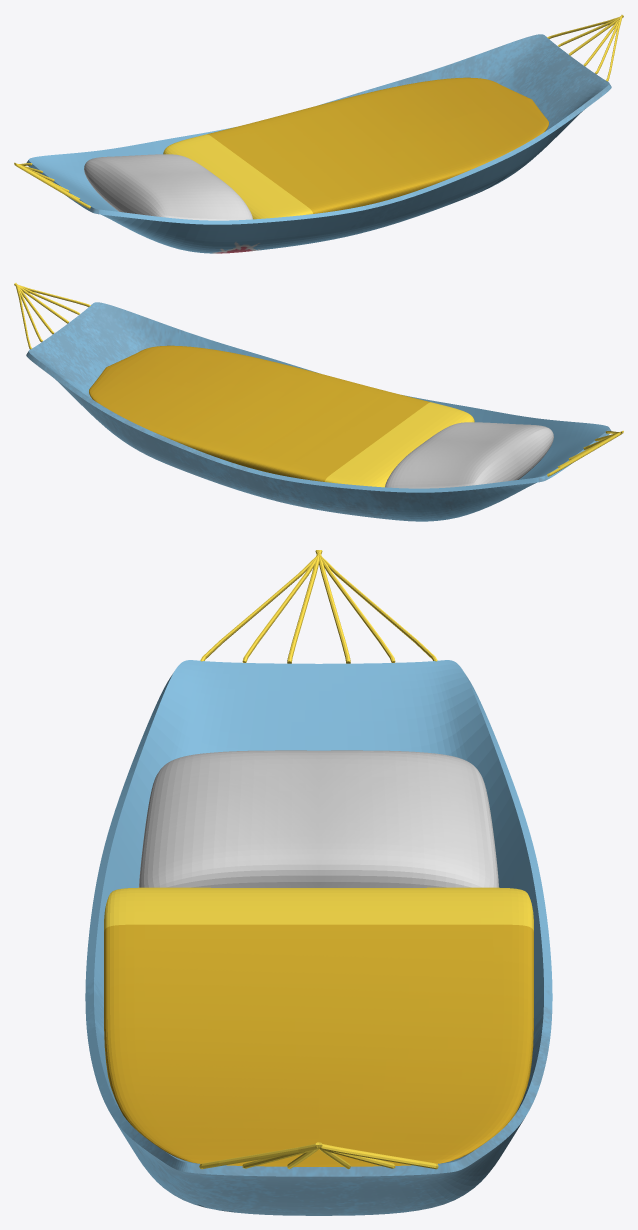
File: hammak01.fbx
3 renders of one model, top to bottom at view 1: azimuth 30°, elevation 25°; view 2: azimuth 150°, elevation 25°; view 3: azimuth 270°, elevation 25°, orthographic. The views are drawn at different scales.
Visible parts, largest first — view 1: Cube.002, Hammak, Cube.001, Plane.002; view 2: Cube.002, Hammak, Cube.001, Plane.002; view 3: Cube.002, Hammak, Cube.001, Plane.002.
Part boxes in pixels (bbox=[...]): Cube.002: bbox=[163, 77, 548, 219]; Hammak: bbox=[26, 34, 611, 253]; Cube.001: bbox=[84, 154, 252, 220]; Plane.002: bbox=[14, 15, 623, 208]; Cube.002: bbox=[89, 345, 474, 487]; Hammak: bbox=[26, 302, 611, 521]; Cube.001: bbox=[385, 422, 553, 488]; Plane.002: bbox=[14, 283, 623, 476]; Cube.002: bbox=[104, 887, 533, 1166]; Hammak: bbox=[85, 660, 552, 1215]; Cube.001: bbox=[139, 750, 498, 887]; Plane.002: bbox=[199, 550, 438, 1169].
Size of the model in its own units: 708 by 139 by 235.
Materials: 1 (1 with a texture image).
